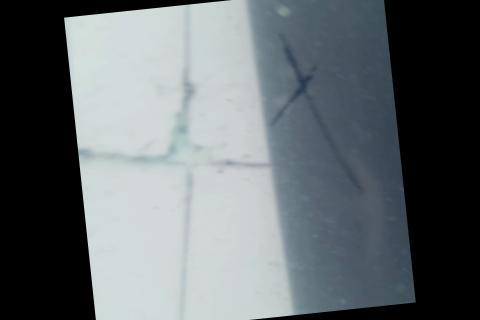keretakan: (261, 23, 367, 205)
